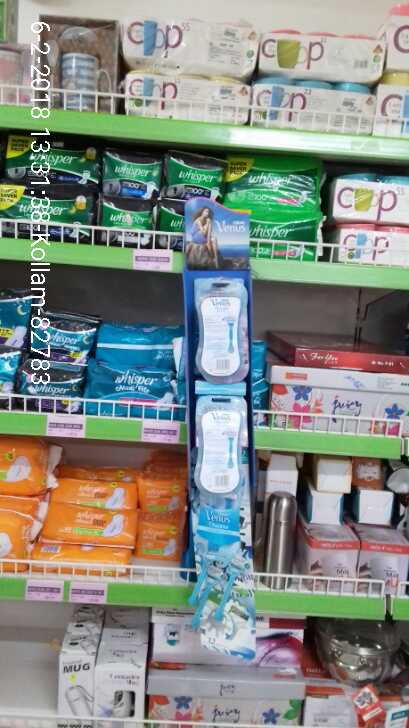beauty: (191, 504, 244, 562)
pharmacy: (221, 156, 324, 208), (87, 363, 180, 418), (93, 314, 177, 367), (42, 503, 136, 546), (31, 537, 131, 577), (47, 467, 136, 510), (96, 145, 159, 198), (155, 154, 222, 200), (95, 197, 151, 244), (136, 466, 188, 514), (131, 515, 176, 550)
